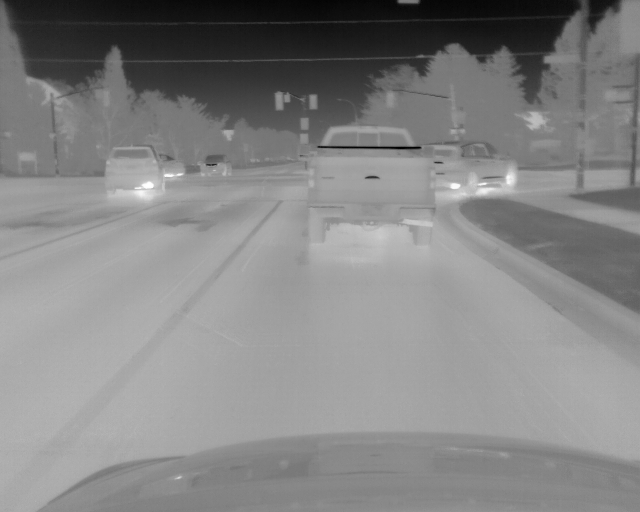car: (304, 123, 437, 245), (428, 137, 520, 195), (104, 145, 164, 196), (198, 153, 233, 178), (156, 154, 185, 181)
